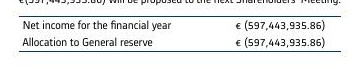table: (0, 0, 362, 69)
